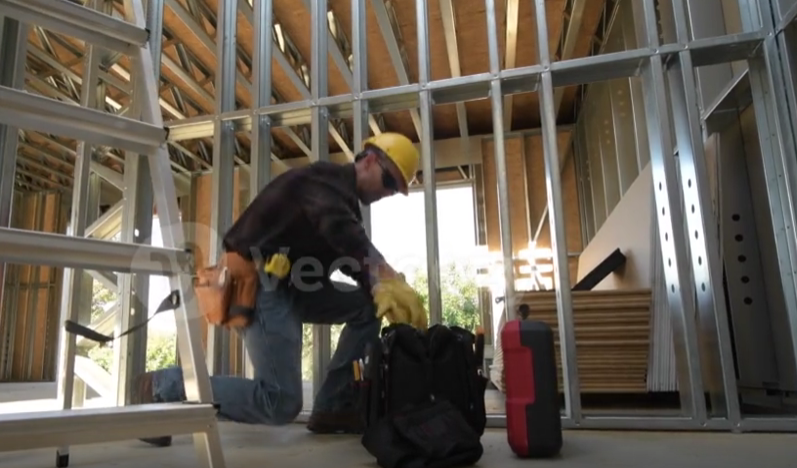safety_helmet: (361, 131, 420, 197)
